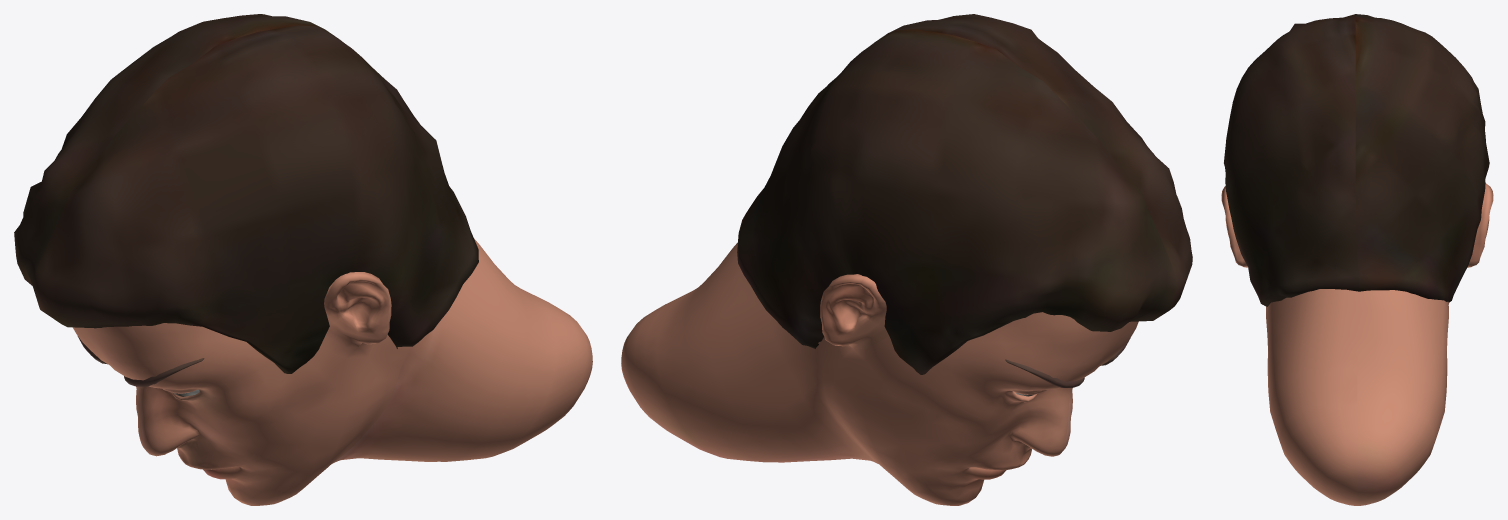
Rendered from Human_Head_0.FBX.
3 renders of one model, left to right at view 1: azimuth 30°, elevation 25°; view 2: azimuth 150°, elevation 25°; view 3: azimuth 270°, elevation 25°, orthographic. The views are drawn at different scales.
Parts seen in each view (by area): view 1: Human_Head_0; view 2: Human_Head_0; view 3: Human_Head_0.
Part boxes in pixels (box(x1,y1,x2,y2)): Human_Head_0: box(14, 14, 592, 505); Human_Head_0: box(621, 14, 1192, 505); Human_Head_0: box(1221, 14, 1493, 505).
Size of the model in its own units: 1.52 by 1.25 by 0.8092.
